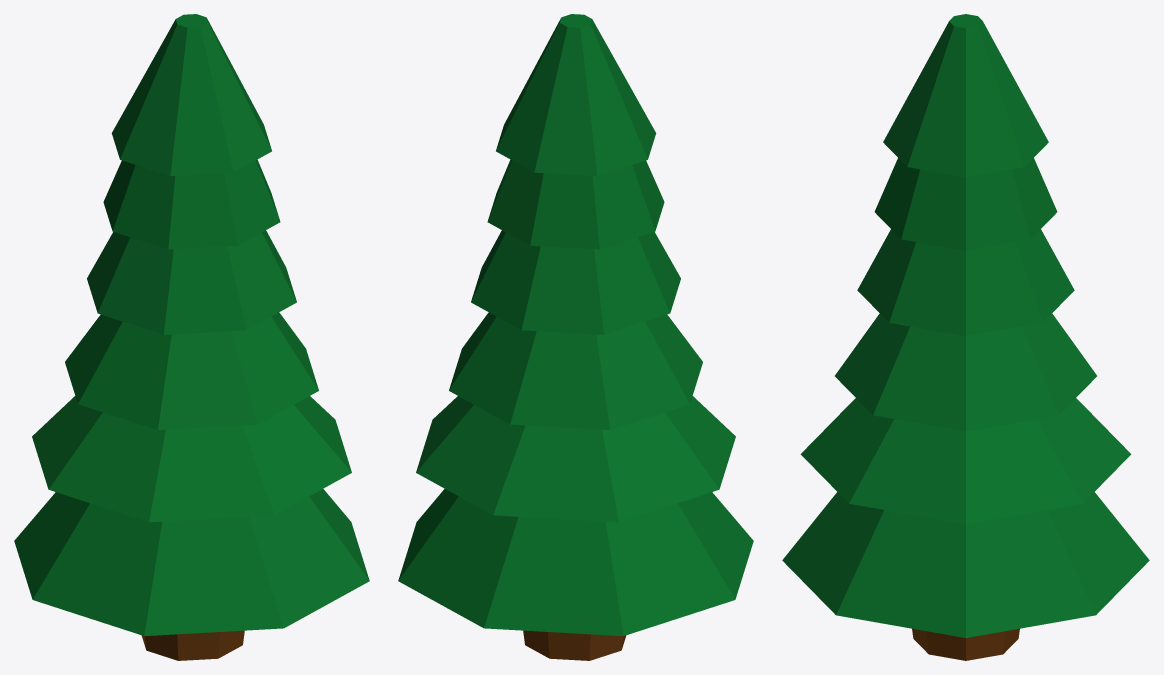
File: pine.fbx
The picture shows the model from 3 angles, left to right: view 1: azimuth 30°, elevation 25°; view 2: azimuth 150°, elevation 25°; view 3: azimuth 270°, elevation 25°; orthographic projection.
Parts seen in each view (by area): view 1: Cylinder.004; view 2: Cylinder.004; view 3: Cylinder.004.
Part boxes in pixels (box(x1,y1,x2,y2)): Cylinder.004: box(14, 14, 369, 660); Cylinder.004: box(398, 14, 753, 660); Cylinder.004: box(782, 14, 1149, 660).
Size of the model in its own units: 698 by 1294 by 698.
